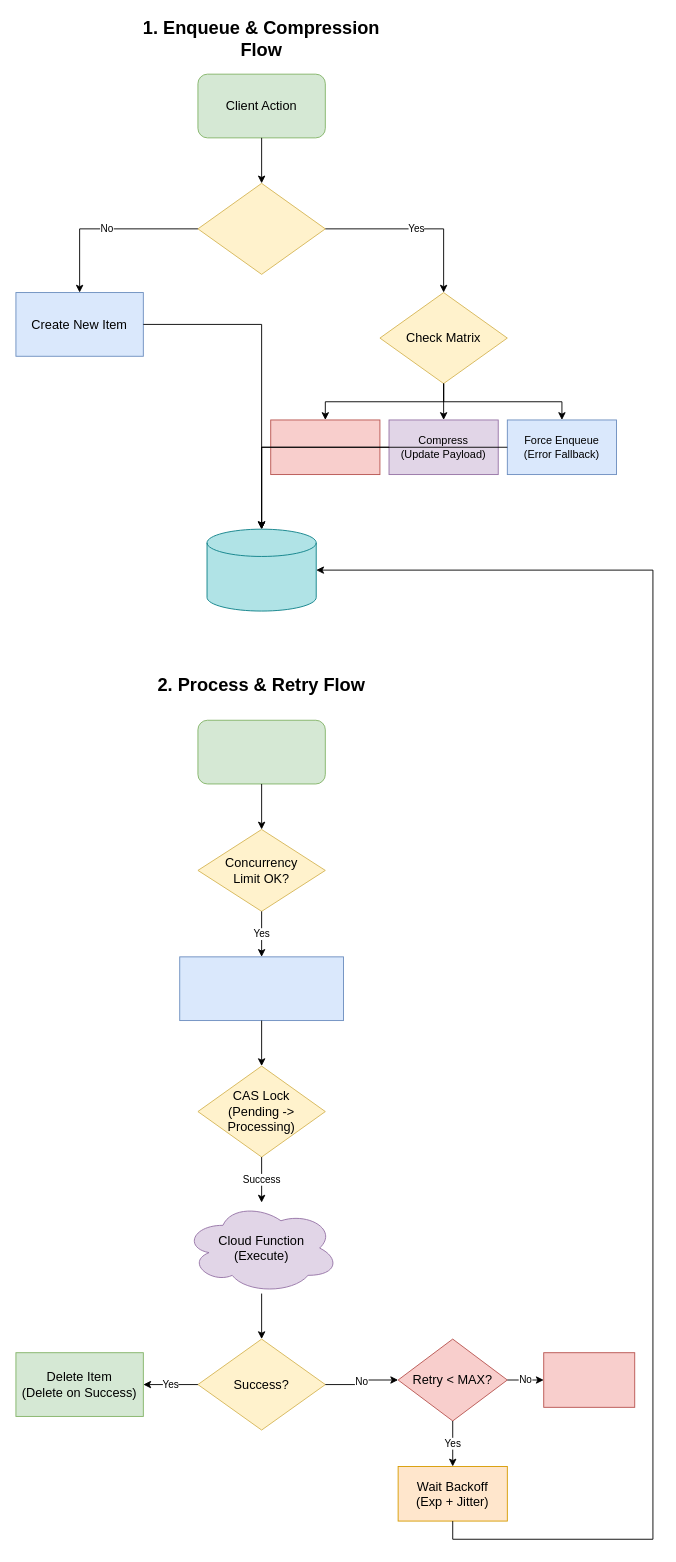
Some shapes in this 676 by 1562 pixel diagram are drawn without their labels. Each missing label, with the centre of its shape:
"Cascading Fetch (High -> Normal -> Back)" goes at point (261, 988).
"Discard (Create+Delete)" goes at point (325, 447).
"IndexedDB (status: pending)" goes at point (261, 569).
"Move to DLQ" goes at point (589, 1379).
"Pending Item Exists?" goes at point (261, 228).
"Trigger / Periodic" goes at point (261, 751).
